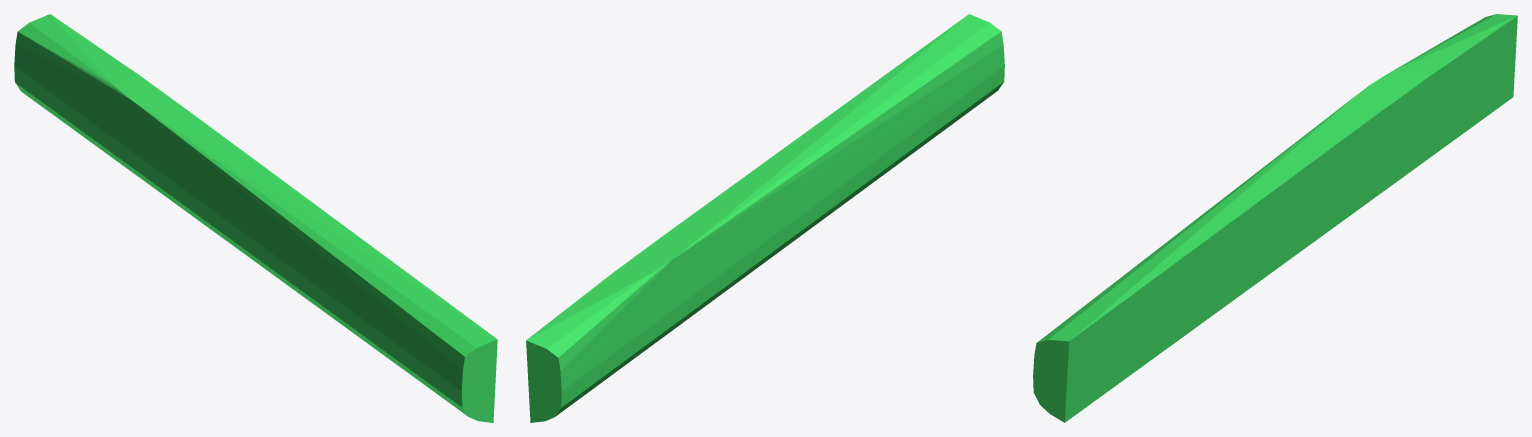
File: converted_Downdraft_Assy_collision_73_3fe566ff.obj
The picture shows the model from 3 angles, left to right: view 1: azimuth 30°, elevation 25°; view 2: azimuth 150°, elevation 25°; view 3: azimuth 330°, elevation 25°; orthographic projection.
Size of the model in its own units: 0.0273 by 0.0635 by 0.5821.
